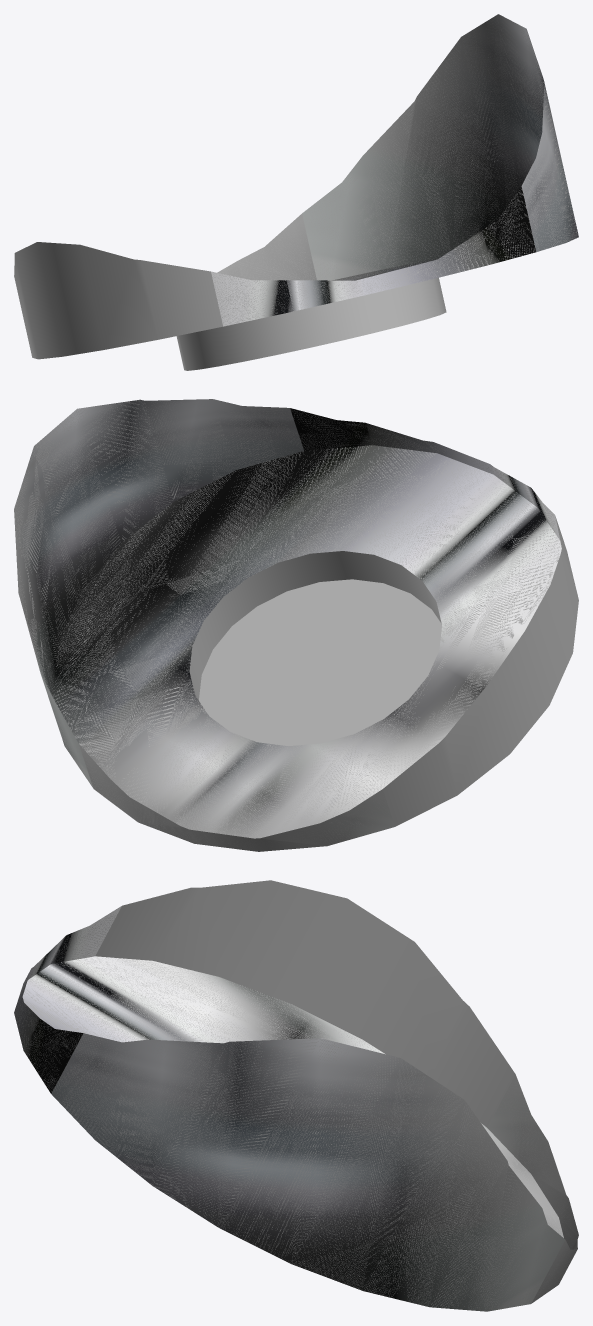
File: original-2.obj
The picture shows the model from 3 angles, top to bottom: view 1: azimuth 30°, elevation 25°; view 2: azimuth 150°, elevation 25°; view 3: azimuth 270°, elevation 25°; orthographic projection. The views are drawn at different scales.
Visible parts, largest first — view 1: Group2/mesh3/mesh3-geometry#mesh3-geometry; view 2: Group2/mesh3/mesh3-geometry#mesh3-geometry; view 3: Group2/mesh3/mesh3-geometry#mesh3-geometry.
Part boxes in pixels (box(x1,y1,x2,y2)): Group2/mesh3/mesh3-geometry#mesh3-geometry: box(14, 14, 578, 370); Group2/mesh3/mesh3-geometry#mesh3-geometry: box(14, 399, 578, 851); Group2/mesh3/mesh3-geometry#mesh3-geometry: box(14, 880, 578, 1311).
Bounding box in the file's own units: 0.1254 × 0.0771 × 0.1151.
